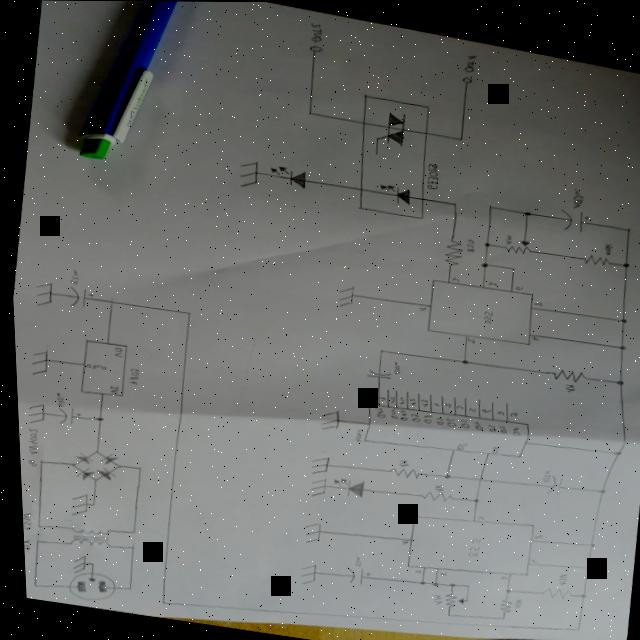capacitor: (555, 206, 591, 232), (65, 286, 93, 309), (340, 565, 369, 586), (53, 405, 80, 426), (541, 473, 561, 496), (362, 367, 391, 381)
crossover: (472, 475, 480, 481)
diode: (266, 163, 308, 189), (327, 474, 362, 499), (70, 465, 92, 482), (92, 466, 113, 481), (96, 452, 115, 466), (71, 452, 90, 465)
ground: (234, 158, 261, 189), (25, 348, 50, 379), (31, 279, 55, 308), (65, 492, 87, 518), (333, 283, 355, 308), (293, 562, 315, 586), (299, 521, 321, 545), (316, 408, 338, 431), (23, 402, 44, 426), (305, 475, 325, 498), (306, 454, 327, 475), (66, 553, 84, 575)
junction: (456, 357, 468, 365), (620, 260, 630, 268), (612, 378, 623, 385), (478, 261, 489, 268), (439, 472, 448, 480), (93, 415, 102, 423), (615, 344, 625, 351), (617, 317, 627, 324), (124, 529, 134, 536), (595, 487, 604, 494), (305, 109, 314, 116), (26, 583, 36, 589), (482, 240, 490, 247), (574, 592, 583, 598), (124, 545, 133, 551), (183, 311, 192, 317), (623, 226, 632, 232), (456, 135, 465, 141), (611, 449, 620, 455), (120, 585, 129, 591), (583, 541, 592, 547), (30, 538, 37, 545), (468, 497, 476, 503), (106, 299, 114, 305), (133, 465, 141, 471), (580, 564, 588, 570), (155, 600, 163, 606), (568, 626, 576, 632), (414, 579, 422, 585), (523, 210, 530, 216), (451, 201, 458, 207), (428, 580, 435, 586), (31, 523, 38, 529), (68, 461, 74, 467), (500, 588, 507, 593), (376, 348, 382, 353), (509, 266, 515, 271), (486, 204, 492, 209), (441, 612, 447, 617), (445, 582, 451, 587), (460, 583, 466, 588), (113, 464, 119, 469), (89, 476, 95, 481), (36, 459, 42, 464), (85, 561, 91, 566), (495, 616, 502, 620), (87, 501, 92, 506), (92, 449, 96, 453), (460, 598, 464, 602)
resistor: (440, 238, 463, 268), (546, 366, 585, 383), (502, 236, 534, 256), (385, 465, 418, 480), (417, 489, 451, 503), (580, 252, 611, 267), (537, 585, 568, 600), (438, 590, 461, 610), (493, 595, 510, 613)
terminal: (308, 43, 325, 53), (461, 75, 474, 84)
text: (423, 162, 443, 191), (20, 427, 39, 456), (307, 20, 326, 42), (568, 186, 586, 209), (462, 51, 478, 73), (463, 537, 478, 558), (18, 511, 31, 533), (125, 367, 139, 386), (51, 391, 65, 408), (479, 308, 493, 325), (84, 362, 107, 372), (551, 571, 565, 587), (67, 268, 79, 285), (463, 237, 476, 252), (600, 241, 613, 255), (370, 405, 384, 418), (389, 360, 401, 375), (537, 468, 549, 483), (560, 381, 575, 393), (426, 592, 439, 605), (393, 457, 408, 468), (109, 346, 122, 358), (442, 416, 455, 428), (19, 536, 28, 552), (351, 428, 361, 442), (419, 412, 431, 423), (396, 408, 407, 420), (385, 407, 397, 418), (452, 441, 465, 451), (406, 412, 419, 422), (508, 596, 519, 607), (349, 555, 359, 567), (507, 426, 519, 436), (469, 420, 481, 430), (456, 418, 468, 428), (415, 304, 428, 313), (486, 445, 498, 454), (494, 424, 506, 433), (23, 458, 35, 467), (484, 279, 497, 287), (430, 483, 441, 492), (484, 423, 495, 432), (431, 416, 442, 425), (503, 233, 512, 244), (106, 384, 117, 393), (493, 573, 505, 580), (530, 299, 542, 306), (417, 398, 426, 407), (406, 397, 415, 406), (449, 275, 460, 282), (529, 532, 540, 539), (434, 568, 443, 576), (395, 396, 403, 405), (440, 400, 449, 408), (512, 284, 522, 291), (528, 335, 539, 341), (491, 409, 502, 415), (478, 406, 489, 412), (409, 567, 418, 574), (464, 336, 473, 343), (506, 410, 515, 417), (473, 514, 483, 520), (396, 539, 405, 545), (453, 404, 462, 410), (524, 557, 534, 562), (376, 395, 384, 401), (429, 401, 438, 406), (387, 395, 392, 403), (466, 406, 474, 411)
transformer: (64, 523, 110, 551)
